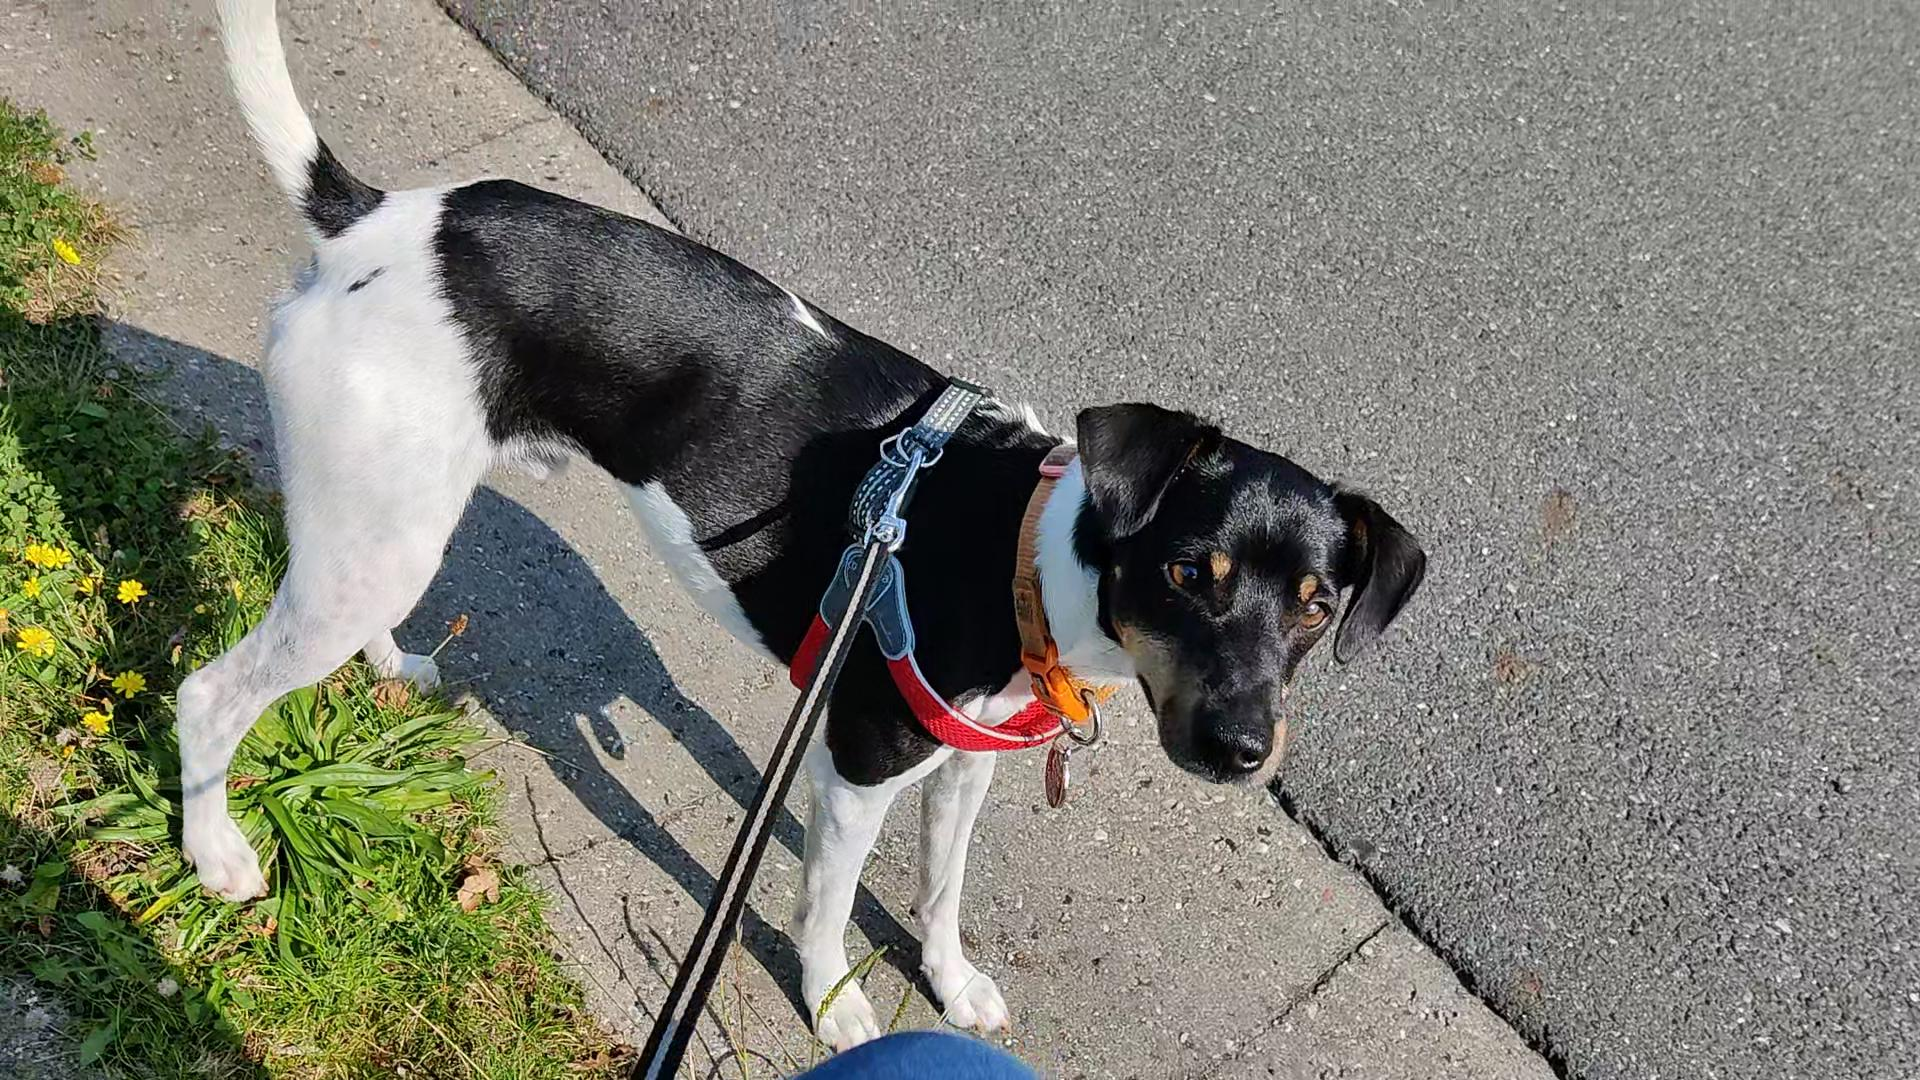Dog: (171, 0, 1429, 1051)
